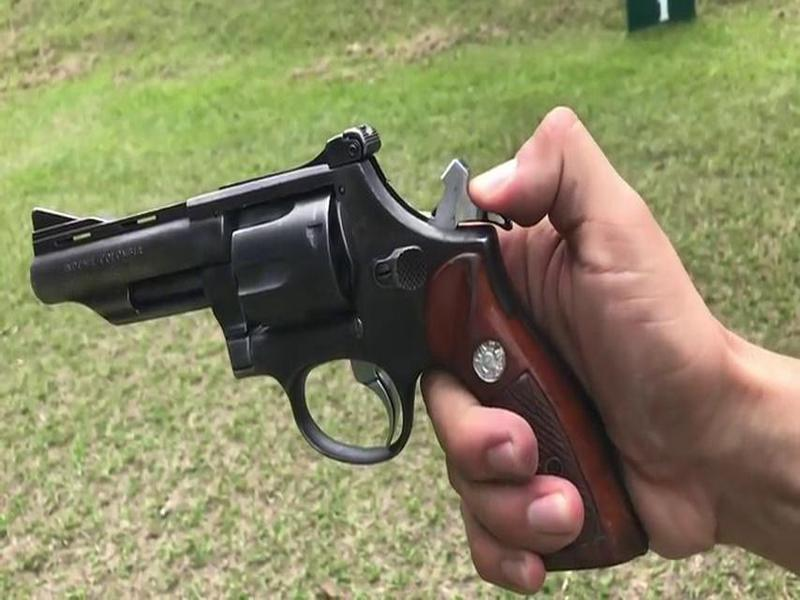Revolver: (48, 116, 647, 590)
